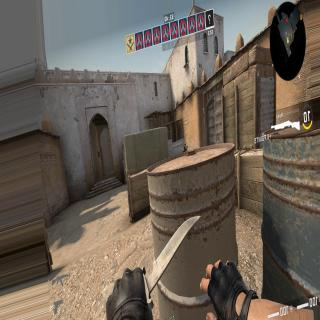CT-Body: (182, 142, 188, 152)
CT-Head: (184, 143, 186, 145)
